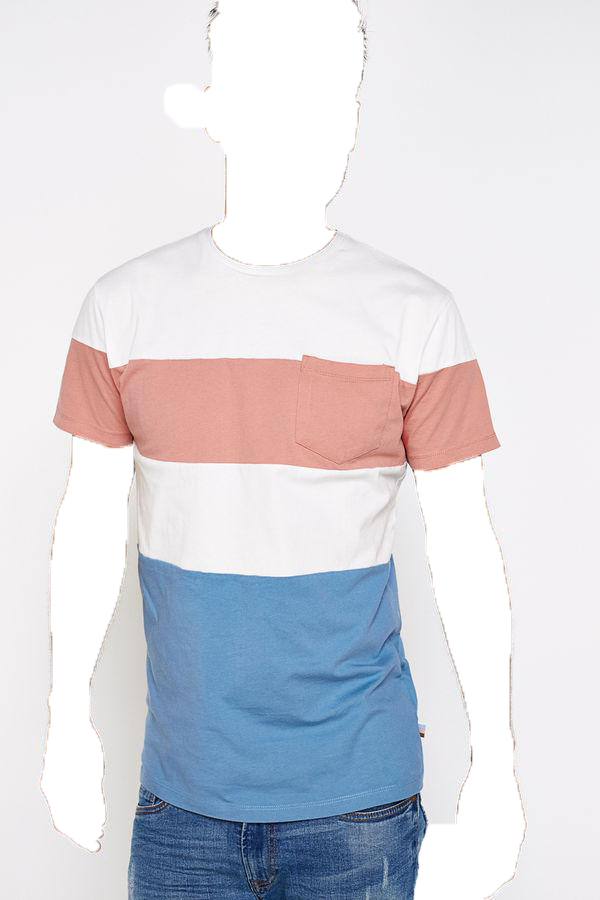teeshirt: (38, 229, 501, 818)
